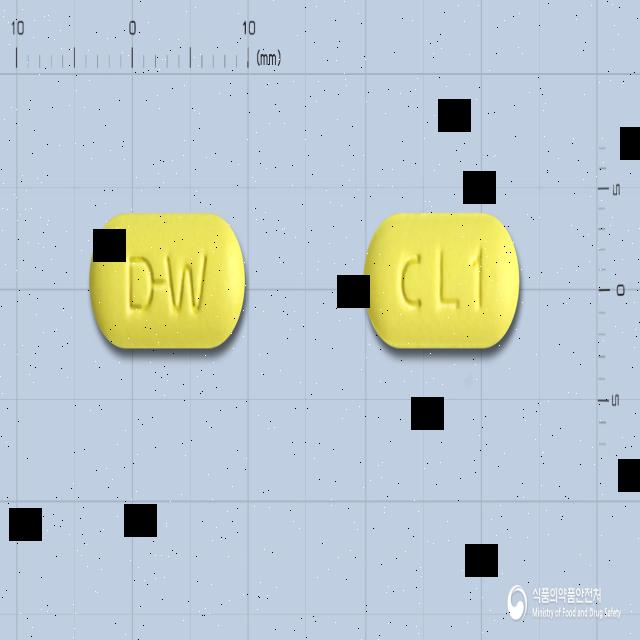Clearmycin: (362, 211, 520, 350), (88, 215, 244, 350)
